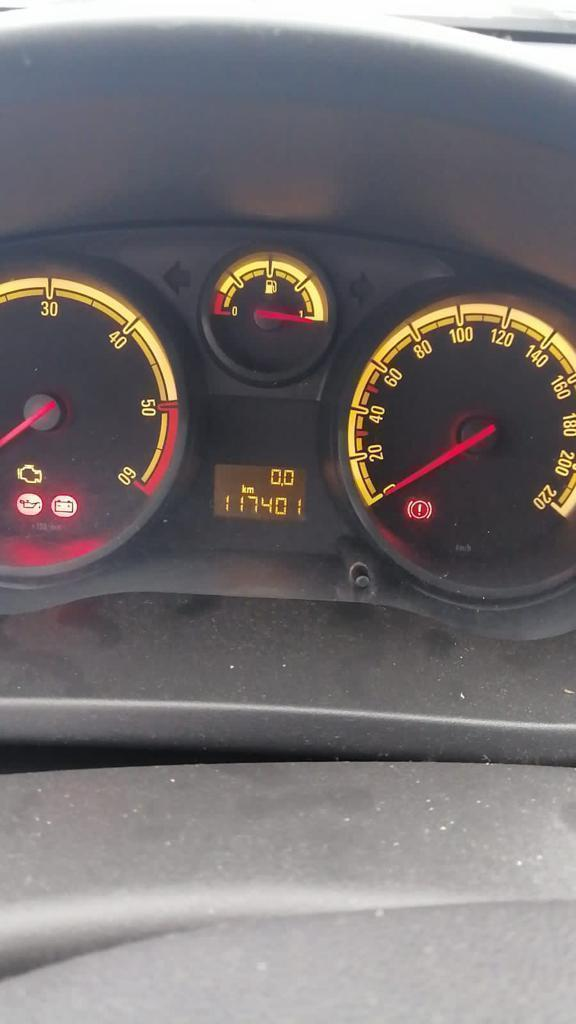,: (280, 482, 283, 487)
0: (274, 497, 287, 515), (270, 468, 281, 484), (283, 469, 293, 485)
1: (225, 495, 230, 512), (297, 497, 301, 515), (239, 495, 243, 512)
4: (260, 495, 272, 514)
7: (247, 495, 258, 512)
X: (246, 486, 254, 493), (241, 484, 246, 493)
odometer: (211, 462, 307, 523)
